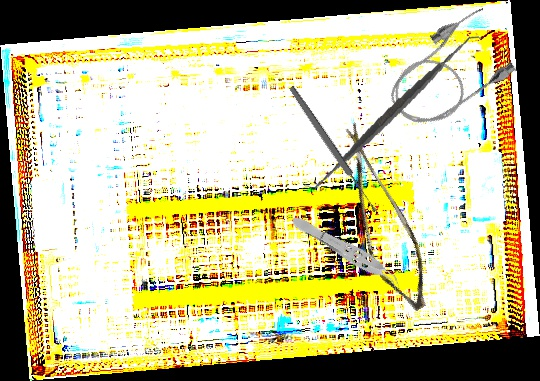Cannula: (373, 1, 525, 141)
Micro Scissor: (303, 122, 458, 318)
Spatula Surgical: (304, 19, 484, 205)
Surgical Spoon: (287, 84, 379, 215)
Tissue Forceps: (287, 210, 408, 295)
